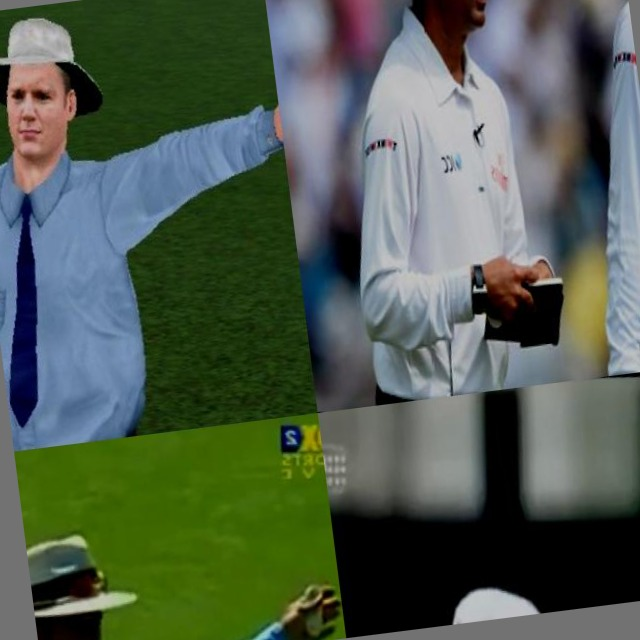No_Action: (301, 0, 628, 408), (538, 0, 640, 378), (338, 532, 640, 638)
No_Ball: (0, 0, 318, 452)
Wide: (21, 467, 346, 640)
